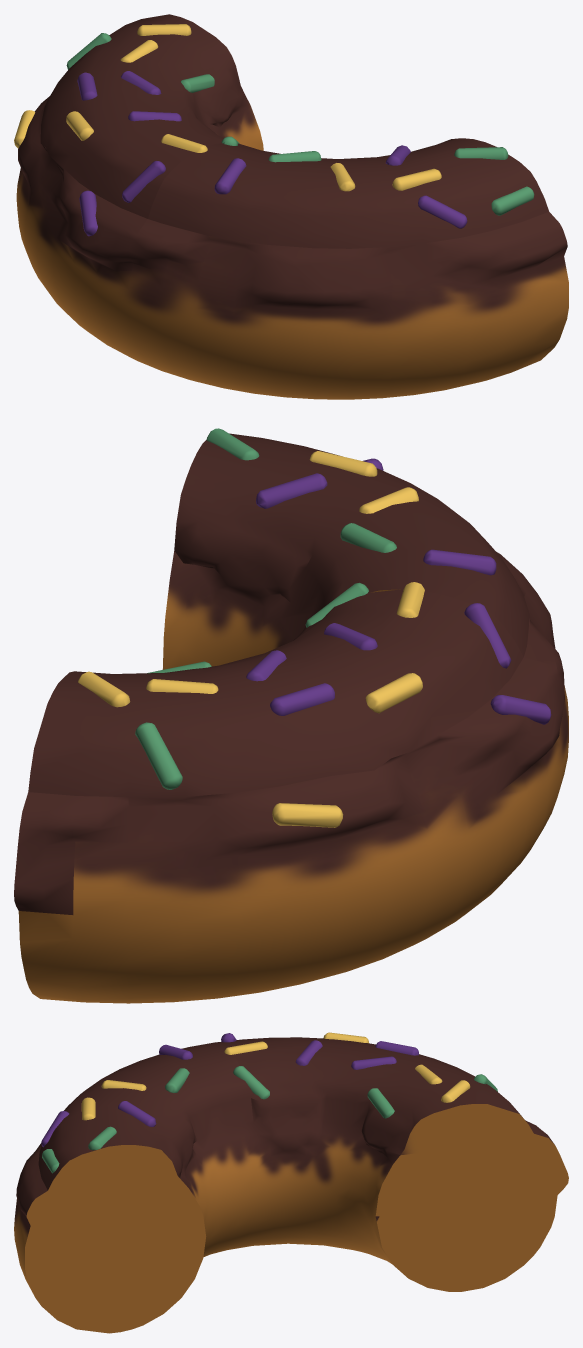
File: donut3_LOD2.fbx
3 views of the same model, one above another, from view 1: azimuth 30°, elevation 25°; view 2: azimuth 150°, elevation 25°; view 3: azimuth 270°, elevation 25° (orthographic). The views are drawn at different scales.
Visible parts, largest first — view 1: pTorus2; view 2: pTorus2; view 3: pTorus2.
Part boxes in pixels (x1,y1,x2,y2): pTorus2: (14,14,568,399); pTorus2: (14,428,568,1003); pTorus2: (14,1032,568,1333).
Bounding box in the file's own units: 141 × 84.49 × 220.
Materials: 1 (1 with a texture image).
